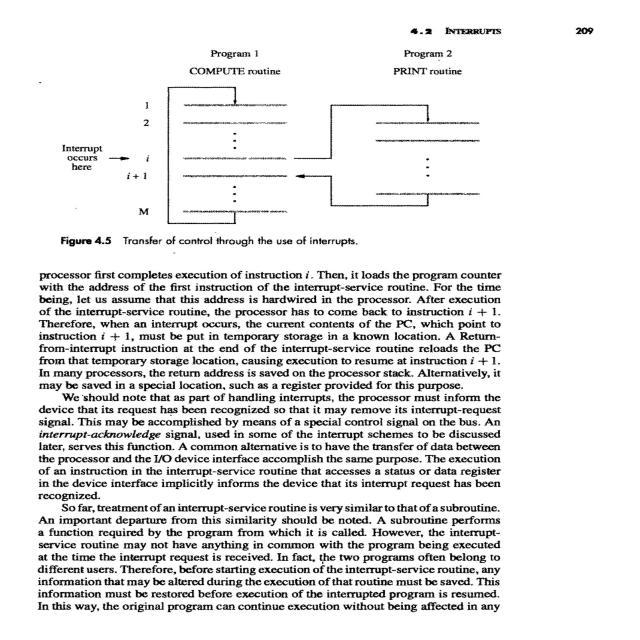diagram: (24, 34, 580, 258), (639, 203, 640, 211)
